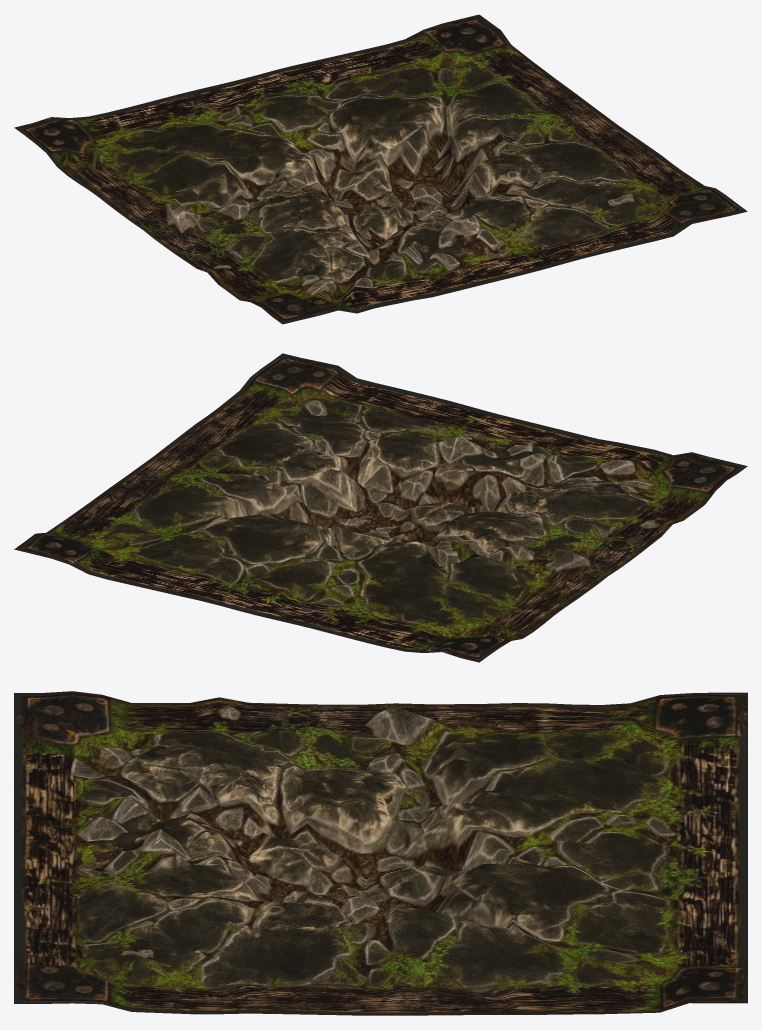
Rendered from prison-floor-3.glb.
3 renders of one model, top to bottom at view 1: azimuth 30°, elevation 25°; view 2: azimuth 150°, elevation 25°; view 3: azimuth 270°, elevation 25°, orthographic. The views are drawn at different scales.
Parts seen in each view (by area): view 1: floortile3; view 2: floortile3; view 3: floortile3.
Boxes of the visible parts, x1,y1,x2,y2 form: floortile3: [14, 14, 747, 324]; floortile3: [14, 353, 747, 662]; floortile3: [14, 691, 747, 1015].
Bounding box in the file's own units: 2 × 0.1867 × 2.
Materials: 1 (1 with a texture image).
